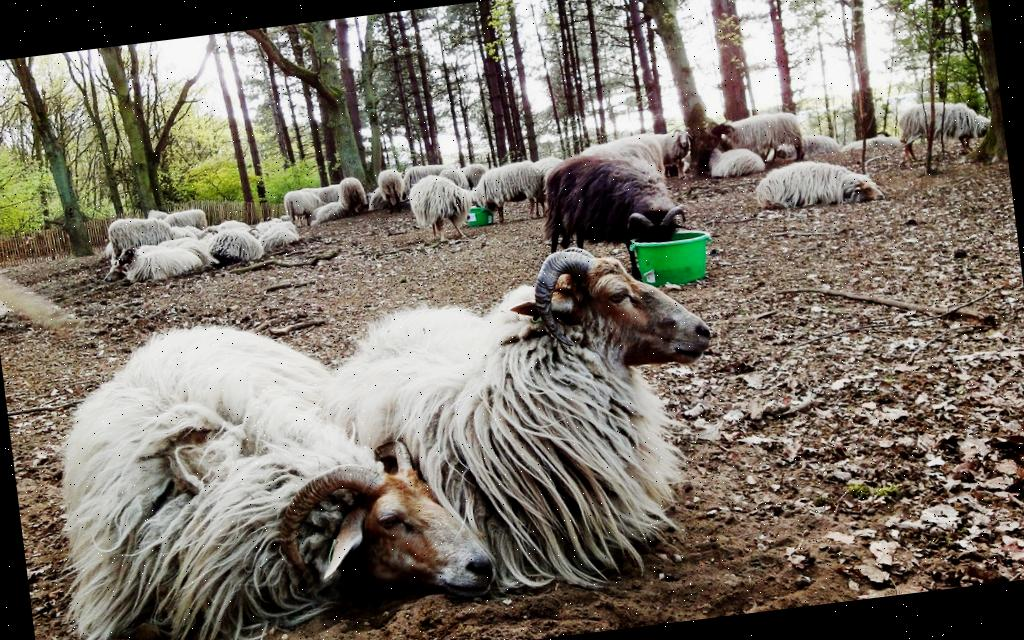Sheep: (311, 221, 741, 621), (40, 308, 476, 640), (538, 146, 691, 290), (748, 150, 890, 223), (892, 95, 998, 174), (708, 103, 808, 171), (406, 172, 480, 246), (464, 162, 545, 228), (104, 210, 180, 271), (114, 240, 196, 285), (635, 122, 696, 177), (703, 136, 767, 182), (202, 227, 266, 270), (278, 184, 326, 228), (334, 172, 369, 222), (374, 164, 404, 213), (163, 207, 211, 234)
